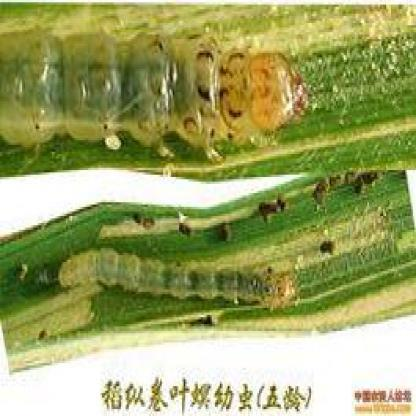leaf-folder: (21, 16, 316, 174), (62, 236, 314, 322)
